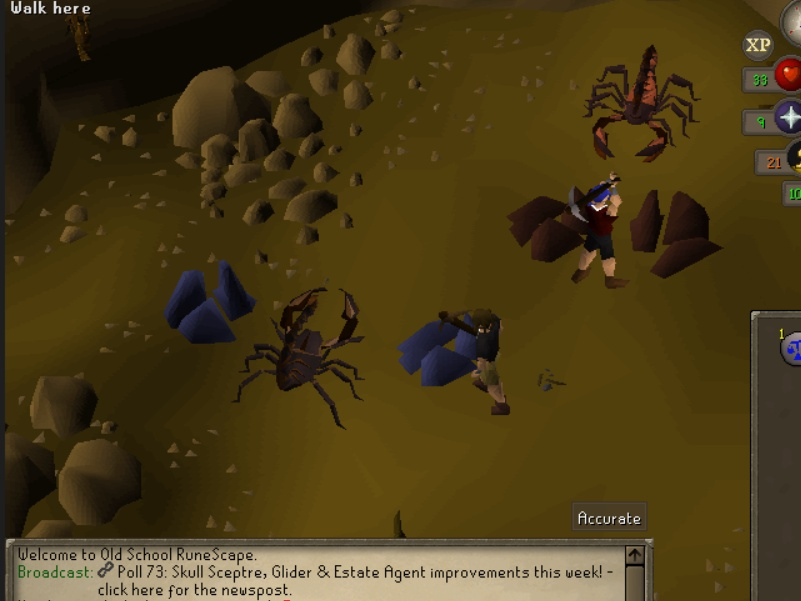iron: (624, 183, 726, 285), (503, 189, 599, 266)
mithril: (156, 257, 259, 350), (394, 307, 493, 394)
